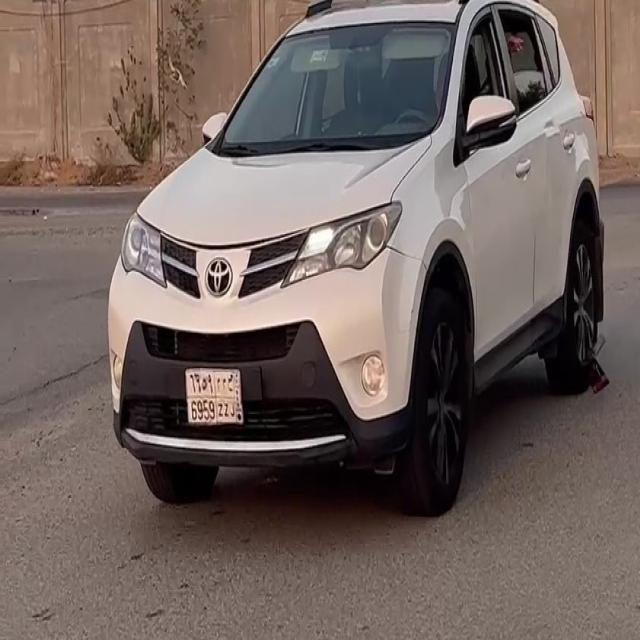Car-plate: (178, 358, 251, 435)
